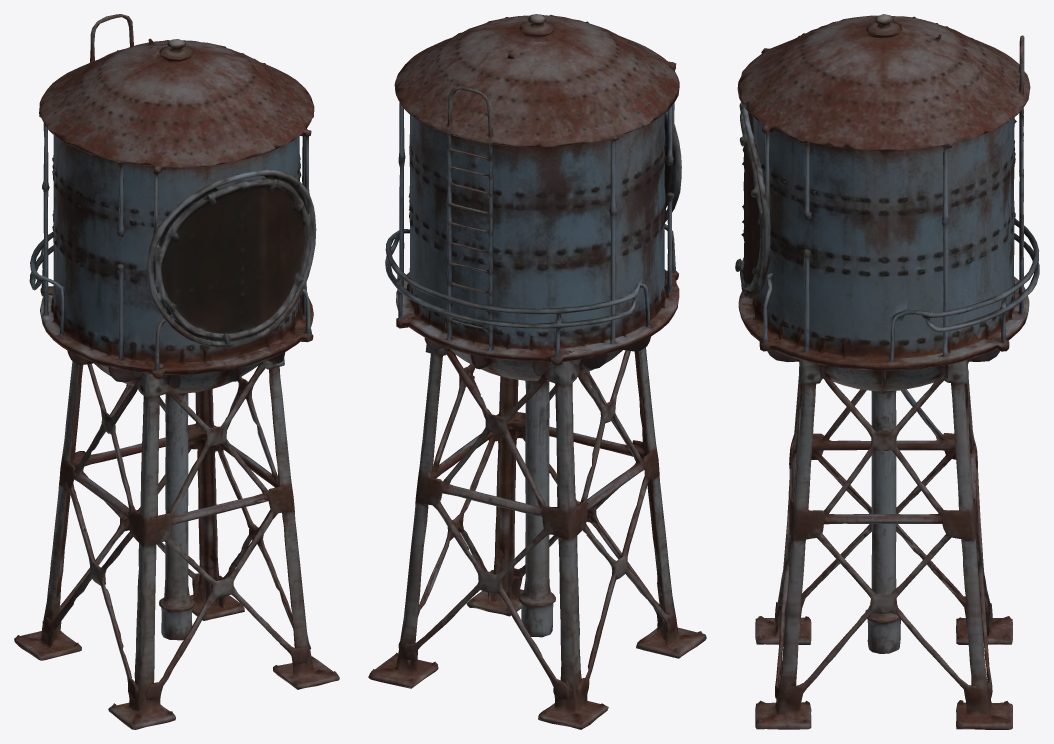
The model's file is lm_watertower.glb.
The picture shows the model from 3 angles, left to right: view 1: azimuth 30°, elevation 25°; view 2: azimuth 150°, elevation 25°; view 3: azimuth 270°, elevation 25°; orthographic projection. The views are drawn at different scales.
Visible parts, largest first — view 1: world; view 2: world; view 3: world.
Part boxes in pixels (<box>): world: <box>14,14,339,729</box>; world: <box>368,14,706,729</box>; world: <box>735,14,1039,729</box>.
Size of the model in its own units: 0.4005 by 1 by 0.4172.
Materials: 1 (1 with a texture image).
